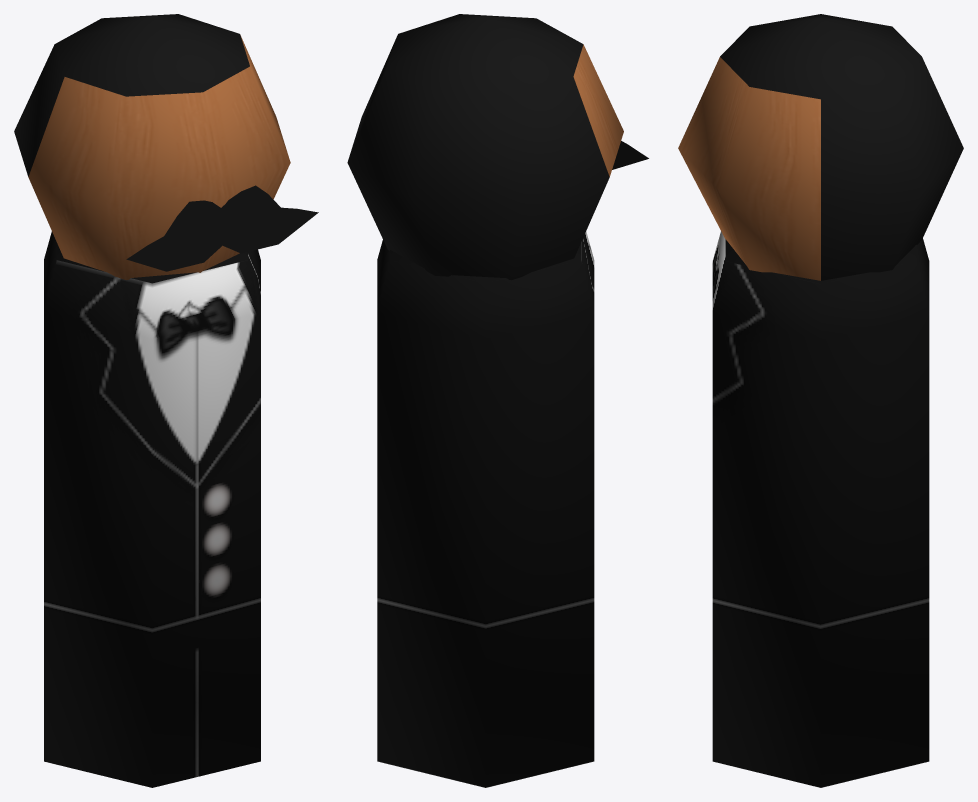
Rendered from Groom_A_2.FBX.
3 views of the same model, side by side, from view 1: azimuth 30°, elevation 25°; view 2: azimuth 150°, elevation 25°; view 3: azimuth 270°, elevation 25° (orthographic).
Parts seen in each view (by area): view 1: Groom; view 2: Groom; view 3: Groom.
Part boxes in pixels (x1,y1,x2,y2): Groom: (14,14,318,787); Groom: (347,14,648,787); Groom: (678,14,963,787).
Bounding box in the file's own units: 21.11 × 58.37 × 21.11.
